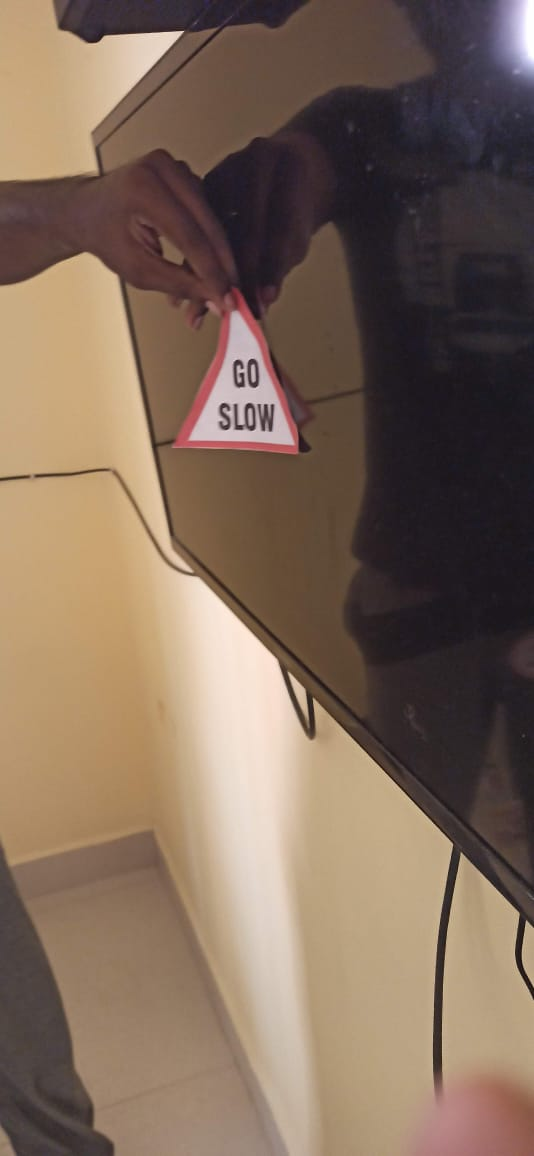GO SLOW: (173, 261, 322, 470)
